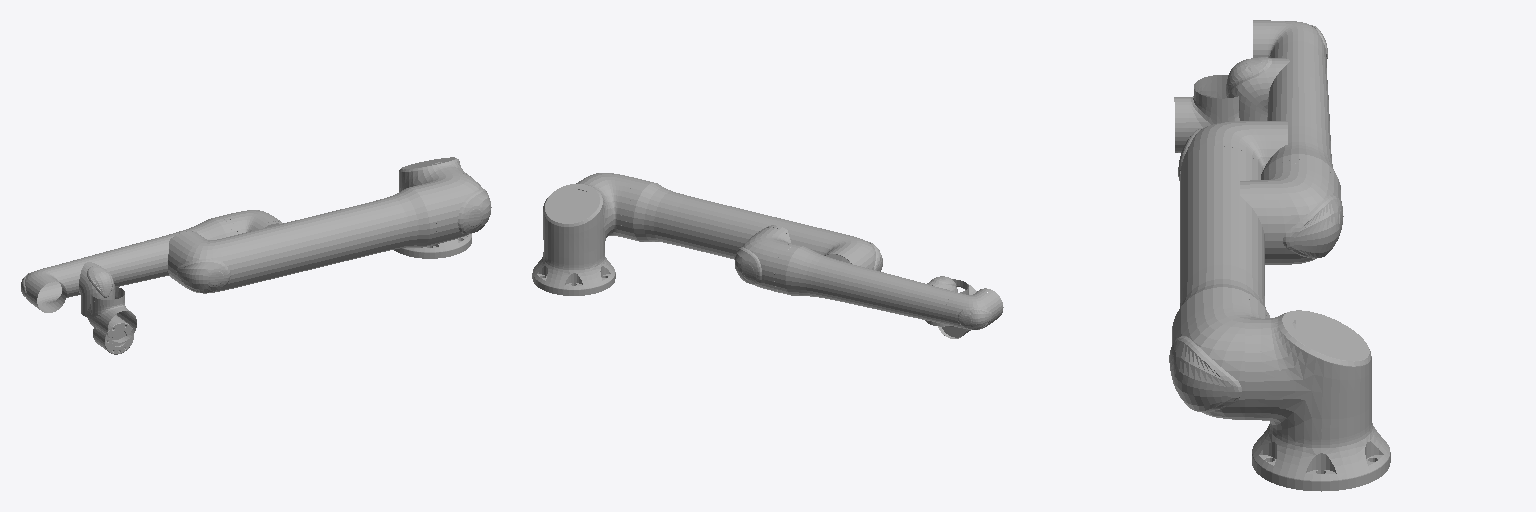
robot.urdf — ur10e_robot:
<?xml version="1.0" ?>
<!-- =================================================================================== -->
<!-- |    This document was autogenerated by xacro from ur10e.xacro                    | -->
<!-- |    EDITING THIS FILE BY HAND IS NOT RECOMMENDED                                 | -->
<!-- =================================================================================== -->
<robot name="ur10e_robot">
  <!--
    Base UR robot series xacro macro.

    NOTE: this is NOT a URDF. It cannot directly be loaded by consumers
    expecting a flattened '.urdf' file. See the top-level '.xacro' for that
    (but note: that .xacro must still be processed by the xacro command).

    For use in '.launch' files: use one of the 'load_urX.launch' convenience
    launch files.

    This file models the base kinematic chain of a UR robot, which then gets
    parameterised by various configuration files to convert it into a UR3(e),
    UR5(e), UR10(e), UR16e, UR20 or UR30.

    NOTE: the default kinematic parameters (ie: link lengths, frame locations,
    offets, etc) do not correspond to any particular robot. They are defaults
    only. There WILL be non-zero offsets between the Forward Kinematics results
    in TF (ie: robot_state_publisher) and the values reported by the Teach
    Pendant.

    For accurate (and robot-specific) transforms, the 'kinematics_parameters_file'
    parameter MUST point to a .yaml file containing the appropriate values for
    the targetted robot.

    If using the UniversalRobots/Universal_Robots_ROS_Driver, follow the steps
    described in the readme of that repository to extract the kinematic
    calibration from the controller and generate the required .yaml file.

    Main author of the migration to yaml configs: Ludovic Delval.

    Contributors to previous versions (in no particular order):

     - Felix Messmer
     - Kelsey Hawkins
     - Wim Meeussen
     - Shaun Edwards
     - Nadia Hammoudeh Garcia
     - Dave Hershberger
     - G. vd. Hoorn
     - Philip Long
     - Dave Coleman
     - Miguel Prada
     - Mathias Luedtke
     - Marcel Schnirring
     - Felix von Drigalski
     - Felix Exner
     - Jimmy Da Silva
     - Ajit Krisshna N L
     - Muhammad Asif Rana
  -->
  <!--
    NOTE: the macro defined in this file is NOT part of the public API of this
          package. Users CANNOT rely on this file being available, or stored in
          this location. Nor can they rely on the existence of the macro.
  -->
  <transmission name="shoulder_pan_trans">
    <type>transmission_interface/SimpleTransmission</type>
    <joint name="shoulder_pan_joint">
      <hardwareInterface>hardware_interface/PositionJointInterface</hardwareInterface>
    </joint>
    <actuator name="shoulder_pan_motor">
      <mechanicalReduction>1</mechanicalReduction>
    </actuator>
  </transmission>
  <transmission name="shoulder_lift_trans">
    <type>transmission_interface/SimpleTransmission</type>
    <joint name="shoulder_lift_joint">
      <hardwareInterface>hardware_interface/PositionJointInterface</hardwareInterface>
    </joint>
    <actuator name="shoulder_lift_motor">
      <mechanicalReduction>1</mechanicalReduction>
    </actuator>
  </transmission>
  <transmission name="elbow_trans">
    <type>transmission_interface/SimpleTransmission</type>
    <joint name="elbow_joint">
      <hardwareInterface>hardware_interface/PositionJointInterface</hardwareInterface>
    </joint>
    <actuator name="elbow_motor">
      <mechanicalReduction>1</mechanicalReduction>
    </actuator>
  </transmission>
  <transmission name="wrist_1_trans">
    <type>transmission_interface/SimpleTransmission</type>
    <joint name="wrist_1_joint">
      <hardwareInterface>hardware_interface/PositionJointInterface</hardwareInterface>
    </joint>
    <actuator name="wrist_1_motor">
      <mechanicalReduction>1</mechanicalReduction>
    </actuator>
  </transmission>
  <transmission name="wrist_2_trans">
    <type>transmission_interface/SimpleTransmission</type>
    <joint name="wrist_2_joint">
      <hardwareInterface>hardware_interface/PositionJointInterface</hardwareInterface>
    </joint>
    <actuator name="wrist_2_motor">
      <mechanicalReduction>1</mechanicalReduction>
    </actuator>
  </transmission>
  <transmission name="wrist_3_trans">
    <type>transmission_interface/SimpleTransmission</type>
    <joint name="wrist_3_joint">
      <hardwareInterface>hardware_interface/PositionJointInterface</hardwareInterface>
    </joint>
    <actuator name="wrist_3_motor">
      <mechanicalReduction>1</mechanicalReduction>
    </actuator>
  </transmission>
  <!-- links: main serial chain -->
  <link name="base_link"/>
  <link name="base_link_inertia">
    <visual>
      <origin rpy="0 0 3.141592653589793" xyz="0 0 0"/>
      <geometry>
        <mesh filename="package://example-robot-data/robots/universal_robots/meshes_description/ur10e/visual/base.dae"/>
      </geometry>
      <material name="LightGrey">
        <color rgba="0.7 0.7 0.7 1.0"/>
      </material>
    </visual>
    <collision>
      <origin rpy="0 0 3.141592653589793" xyz="0 0 0"/>
      <geometry>
        <mesh filename="package://example-robot-data/robots/universal_robots/meshes_description/ur10e/collision/base.stl"/>
      </geometry>
    </collision>
    <inertial>
      <mass value="4.0"/>
      <origin rpy="0 0 0" xyz="0 0 0"/>
      <inertia ixx="0.0061063308908" ixy="0.0" ixz="0.0" iyy="0.0061063308908" iyz="0.0" izz="0.01125"/>
    </inertial>
  </link>
  <link name="shoulder_link">
    <visual>
      <origin rpy="0 0 3.141592653589793" xyz="0 0 0"/>
      <geometry>
        <mesh filename="package://example-robot-data/robots/universal_robots/meshes_description/ur10e/visual/shoulder.dae"/>
      </geometry>
      <material name="LightGrey">
        <color rgba="0.7 0.7 0.7 1.0"/>
      </material>
    </visual>
    <collision>
      <origin rpy="0 0 3.141592653589793" xyz="0 0 0"/>
      <geometry>
        <mesh filename="package://example-robot-data/robots/universal_robots/meshes_description/ur10e/collision/shoulder.stl"/>
      </geometry>
    </collision>
    <inertial>
      <mass value="7.778"/>
      <origin rpy="0 0 0" xyz="0 0 0"/>
      <inertia ixx="0.03147431257693659" ixy="0.0" ixz="0.0" iyy="0.03147431257693659" iyz="0.0" izz="0.021875624999999996"/>
    </inertial>
  </link>
  <link name="upper_arm_link">
    <visual>
      <origin rpy="1.5707963267948966 0 -1.5707963267948966" xyz="0 0 0.1762"/>
      <geometry>
        <mesh filename="package://example-robot-data/robots/universal_robots/meshes_description/ur10e/visual/upperarm.dae"/>
      </geometry>
      <material name="LightGrey">
        <color rgba="0.7 0.7 0.7 1.0"/>
      </material>
    </visual>
    <collision>
      <origin rpy="1.5707963267948966 0 -1.5707963267948966" xyz="0 0 0.1762"/>
      <geometry>
        <mesh filename="package://example-robot-data/robots/universal_robots/meshes_description/ur10e/collision/upperarm.stl"/>
      </geometry>
    </collision>
    <inertial>
      <mass value="12.93"/>
      <origin rpy="0 1.5707963267948966 0" xyz="-0.306 0.0 0.175"/>
      <inertia ixx="0.42175380379841093" ixy="0.0" ixz="0.0" iyy="0.42175380379841093" iyz="0.0" izz="0.03636562499999999"/>
    </inertial>
  </link>
  <link name="forearm_link">
    <visual>
      <origin rpy="1.5707963267948966 0 -1.5707963267948966" xyz="0 0 0.0393"/>
      <geometry>
        <mesh filename="package://example-robot-data/robots/universal_robots/meshes_description/ur10e/visual/forearm.dae"/>
      </geometry>
      <material name="LightGrey">
        <color rgba="0.7 0.7 0.7 1.0"/>
      </material>
    </visual>
    <collision>
      <origin rpy="1.5707963267948966 0 -1.5707963267948966" xyz="0 0 0.0393"/>
      <geometry>
        <mesh filename="package://example-robot-data/robots/universal_robots/meshes_description/ur10e/collision/forearm.stl"/>
      </geometry>
    </collision>
    <inertial>
      <mass value="3.87"/>
      <origin rpy="0 1.5707963267948966 0" xyz="-0.285775 0.0 0.0393"/>
      <inertia ixx="0.11079302548902206" ixy="0.0" ixz="0.0" iyy="0.11079302548902206" iyz="0.0" izz="0.010884375"/>
    </inertial>
  </link>
  <link name="wrist_1_link">
    <visual>
      <!-- TODO: Move this to a parameter -->
      <origin rpy="1.5707963267948966 0 0" xyz="0 0 -0.135"/>
      <geometry>
        <mesh filename="package://example-robot-data/robots/universal_robots/meshes_description/ur10e/visual/wrist1.dae"/>
      </geometry>
      <material name="LightGrey">
        <color rgba="0.7 0.7 0.7 1.0"/>
      </material>
    </visual>
    <collision>
      <origin rpy="1.5707963267948966 0 0" xyz="0 0 -0.135"/>
      <geometry>
        <mesh filename="package://example-robot-data/robots/universal_robots/meshes_description/ur10e/collision/wrist1.stl"/>
      </geometry>
    </collision>
    <inertial>
      <mass value="1.96"/>
      <origin rpy="0 0 0" xyz="0 0 0"/>
      <inertia ixx="0.005108247956699999" ixy="0.0" ixz="0.0" iyy="0.005108247956699999" iyz="0.0" izz="0.005512499999999999"/>
    </inertial>
  </link>
  <link name="wrist_2_link">
    <visual>
      <origin rpy="0 0 0" xyz="0 0 -0.12"/>
      <geometry>
        <mesh filename="package://example-robot-data/robots/universal_robots/meshes_description/ur10e/visual/wrist2.dae"/>
      </geometry>
      <material name="LightGrey">
        <color rgba="0.7 0.7 0.7 1.0"/>
      </material>
    </visual>
    <collision>
      <origin rpy="0 0 0" xyz="0 0 -0.12"/>
      <geometry>
        <mesh filename="package://example-robot-data/robots/universal_robots/meshes_description/ur10e/collision/wrist2.stl"/>
      </geometry>
    </collision>
    <inertial>
      <mass value="1.96"/>
      <origin rpy="0 0 0" xyz="0 0 0"/>
      <inertia ixx="0.005108247956699999" ixy="0.0" ixz="0.0" iyy="0.005108247956699999" iyz="0.0" izz="0.005512499999999999"/>
    </inertial>
  </link>
  <link name="wrist_3_link">
    <visual>
      <origin rpy="1.5707963267948966 0 0" xyz="0 0 -0.1168"/>
      <geometry>
        <mesh filename="package://example-robot-data/robots/universal_robots/meshes_description/ur10e/visual/wrist3.dae"/>
      </geometry>
      <material name="LightGrey">
        <color rgba="0.7 0.7 0.7 1.0"/>
      </material>
    </visual>
    <collision>
      <origin rpy="1.5707963267948966 0 0" xyz="0 0 -0.1168"/>
      <geometry>
        <mesh filename="package://example-robot-data/robots/universal_robots/meshes_description/ur10e/collision/wrist3.stl"/>
      </geometry>
    </collision>
    <inertial>
      <mass value="0.202"/>
      <origin rpy="0 0 0" xyz="0.0 0.0 -0.025"/>
      <inertia ixx="0.00014434577559500002" ixy="0.0" ixz="0.0" iyy="0.00014434577559500002" iyz="0.0" izz="0.00020452500000000002"/>
    </inertial>
  </link>
  <!-- joints: main serial chain -->
  <joint name="base_link-base_link_inertia" type="fixed">
    <parent link="base_link"/>
    <child link="base_link_inertia"/>
    <!-- 'base_link' is REP-103 aligned (so X+ forward), while the internal
           frames of the robot/controller have X+ pointing backwards.
           Use the joint between 'base_link' and 'base_link_inertia' (a dummy
           link/frame) to introduce the necessary rotation over Z (of pi rad).
      -->
    <origin rpy="0 0 0" xyz="0 0 0"/>
  </joint>
  <joint name="shoulder_pan_joint" type="revolute">
    <parent link="base_link_inertia"/>
    <child link="shoulder_link"/>
    <origin rpy="0 0  0.0000001109936242152387" xyz="0 0 0.1807223404587692"/>
    <axis xyz="0 0 1"/>
    <limit effort="330.0" lower="-6.283185307179586" upper="6.283185307179586" velocity="2.0943951023931953"/>
    <dynamics damping="0" friction="0"/>
  </joint>
  <joint name="shoulder_lift_joint" type="revolute">
    <parent link="shoulder_link"/>
    <child link="upper_arm_link"/>
    <origin rpy="1.5700585599785 0 -0.000001889265847765387" xyz="0.0001224540664709217 0 0"/>
    <axis xyz="0 0 1"/>
    <limit effort="330.0" lower="-6.283185307179586" upper="6.283185307179586" velocity="2.0943951023931953"/>
    <dynamics damping="0" friction="0"/>
  </joint>
  <joint name="elbow_joint" type="revolute">
    <parent link="upper_arm_link"/>
    <child link="forearm_link"/>
    <origin rpy="3.141161946769475 3.139993140529262 3.141591939243994" xyz="-0.6124454215643953 0 0"/>
    <axis xyz="0 0 1"/>
    <limit effort="150.0" lower="-3.141592653589793" upper="3.141592653589793" velocity="3.141592653589793"/>
    <dynamics damping="0" friction="0"/>
  </joint>
  <joint name="wrist_1_joint" type="revolute">
    <parent link="forearm_link"/>
    <child link="wrist_1_link"/>
    <origin rpy="0.005215432865902182 -0.001406614759221339 0.000009248635890903703" xyz="-0.5715347423840665 -0.0009074778423053808 0.1739969888598195"/>
    <axis xyz="0 0 1"/>
    <limit effort="56.0" lower="-6.283185307179586" upper="6.283185307179586" velocity="3.141592653589793"/>
    <dynamics damping="0" friction="0"/>
  </joint>
  <joint name="wrist_2_joint" type="revolute">
    <parent link="wrist_1_link"/>
    <child link="wrist_2_link"/>
    <origin rpy="1.571500447416658 0 -0.0000002958914185613448" xyz="-0.00000547915635099904 -0.1198697581145025  -0.00008440278256257301"/>
    <axis xyz="0 0 1"/>
    <limit effort="56.0" lower="-6.283185307179586" upper="6.283185307179586" velocity="3.141592653589793"/>
    <dynamics damping="0" friction="0"/>
  </joint>
  <joint name="wrist_3_joint" type="revolute">
    <parent link="wrist_2_link"/>
    <child link="wrist_3_link"/>
    <origin rpy="1.570477200599564 3.141592653589793 3.141591779461055" xyz="-0.00006621936493130273 0.1151810452358583 -0.00003675728998837472"/>
    <axis xyz="0 0 1"/>
    <limit effort="56.0" lower="-6.283185307179586" upper="6.283185307179586" velocity="3.141592653589793"/>
    <dynamics damping="0" friction="0"/>
  </joint>
  <!-- ROS-Industrial 'base' frame: base_link to UR 'Base' Coordinates transform -->
  <link name="base"/>
  <joint name="base_link-base_fixed_joint" type="fixed">
    <!-- Note the rotation over Z of pi radians: as base_link is REP-103
           aligned (ie: has X+ forward, Y+ left and Z+ up), this is needed
           to correctly align 'base' with the 'Base' coordinate system of
           the UR controller.
      -->
    <origin rpy="0 0 0" xyz="0 0 0"/>
    <parent link="base_link"/>
    <child link="base"/>
  </joint>
  <!-- ROS-Industrial 'flange' frame: attachment point for EEF models -->
  <link name="flange"/>
  <joint name="wrist_3-flange" type="fixed">
    <parent link="wrist_3_link"/>
    <child link="flange"/>
    <origin rpy="0 -1.5707963267948966 -1.5707963267948966" xyz="0 0 0"/>
  </joint>
  <!-- ROS-Industrial 'tool0' frame: all-zeros tool frame -->
  <link name="tool0"/>
  <joint name="flange-tool0" type="fixed">
    <!-- default toolframe: X+ left, Y+ up, Z+ front -->
    <origin rpy="1.5707963267948966 0 1.5707963267948966" xyz="0 0 0"/>
    <parent link="flange"/>
    <child link="tool0"/>
  </joint>
</robot>

--- Render facts (derived) ---
Views: 3 orthographic renders of the robot side by side, from view 1: azimuth 30°, elevation 25°; view 2: azimuth 150°, elevation 25°; view 3: azimuth 270°, elevation 25°.
Robot: ur10e_robot — 11 links, 10 joints (6 revolute, 4 fixed); root link base_link; default pose: all joints at 0.
Visible links, largest first — view 1: upper_arm_link, forearm_link, wrist_2_link, wrist_1_link, shoulder_link, base_link_inertia, wrist_3_link; view 2: forearm_link, upper_arm_link, shoulder_link, base_link_inertia; view 3: upper_arm_link, forearm_link, shoulder_link, base_link_inertia, wrist_2_link, wrist_1_link.
Link boxes in pixels (left/top/right/bottom): upper_arm_link: left=168, top=162, right=491, bottom=293; forearm_link: left=21, top=210, right=282, bottom=312; wrist_2_link: left=87, top=286, right=136, bottom=342; wrist_1_link: left=79, top=262, right=114, bottom=317; shoulder_link: left=399, top=157, right=470, bottom=191; base_link_inertia: left=394, top=234, right=471, bottom=258; wrist_3_link: left=93, top=315, right=133, bottom=354; forearm_link: left=735, top=225, right=1003, bottom=329; upper_arm_link: left=578, top=173, right=882, bottom=271; shoulder_link: left=543, top=178, right=613, bottom=264; base_link_inertia: left=532, top=250, right=615, bottom=295; upper_arm_link: left=1169, top=121, right=1295, bottom=420; forearm_link: left=1240, top=20, right=1343, bottom=264; shoulder_link: left=1245, top=310, right=1371, bottom=440; base_link_inertia: left=1252, top=410, right=1390, bottom=491; wrist_2_link: left=1174, top=75, right=1239, bottom=152; wrist_1_link: left=1226, top=57, right=1289, bottom=120.
Bounding box of the posed robot: 1.52 × 0.3907 × 0.2774 m (x, y, z).
7 mesh visuals loaded from 7 distinct referenced files (7 Collada DAE).
